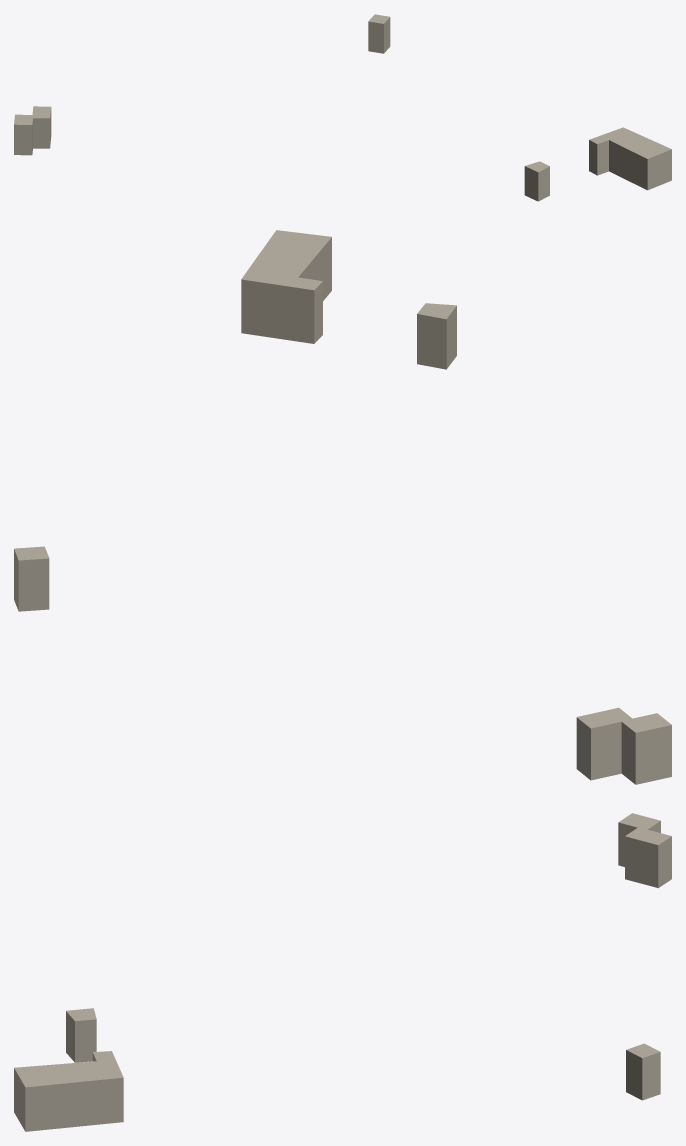
File: kalkara_67_24_collision.glb
3 renders of one model, top to bottom at view 1: azimuth 30°, elevation 25°; view 2: azimuth 150°, elevation 25°; view 3: azimuth 270°, elevation 25°, orthographic. The views are drawn at different scales.
Visible parts, largest first — view 1: geometry_0; view 2: geometry_0; view 3: geometry_0.
Part boxes in pixels (x1,y1,x2,y2): geometry_0: [14, 14, 671, 201]; geometry_0: [14, 230, 671, 784]; geometry_0: [14, 813, 671, 1131].
Bounding box in the file's own units: 165 × 19.06 × 149.
